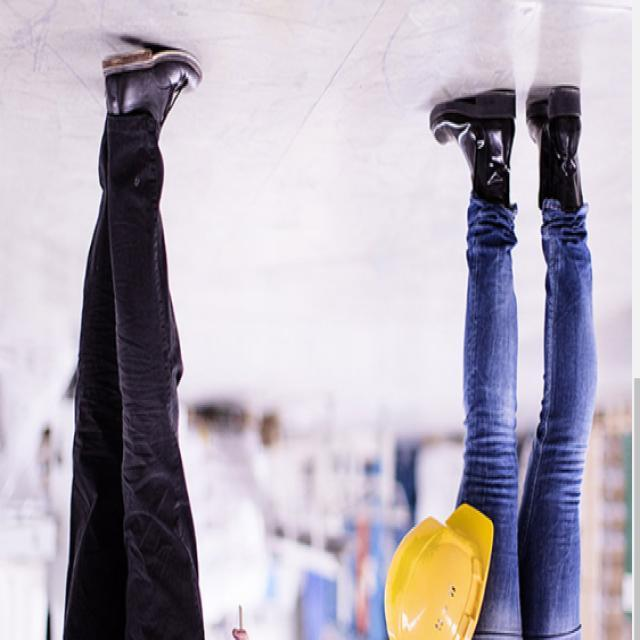boots: (427, 84, 587, 226)
